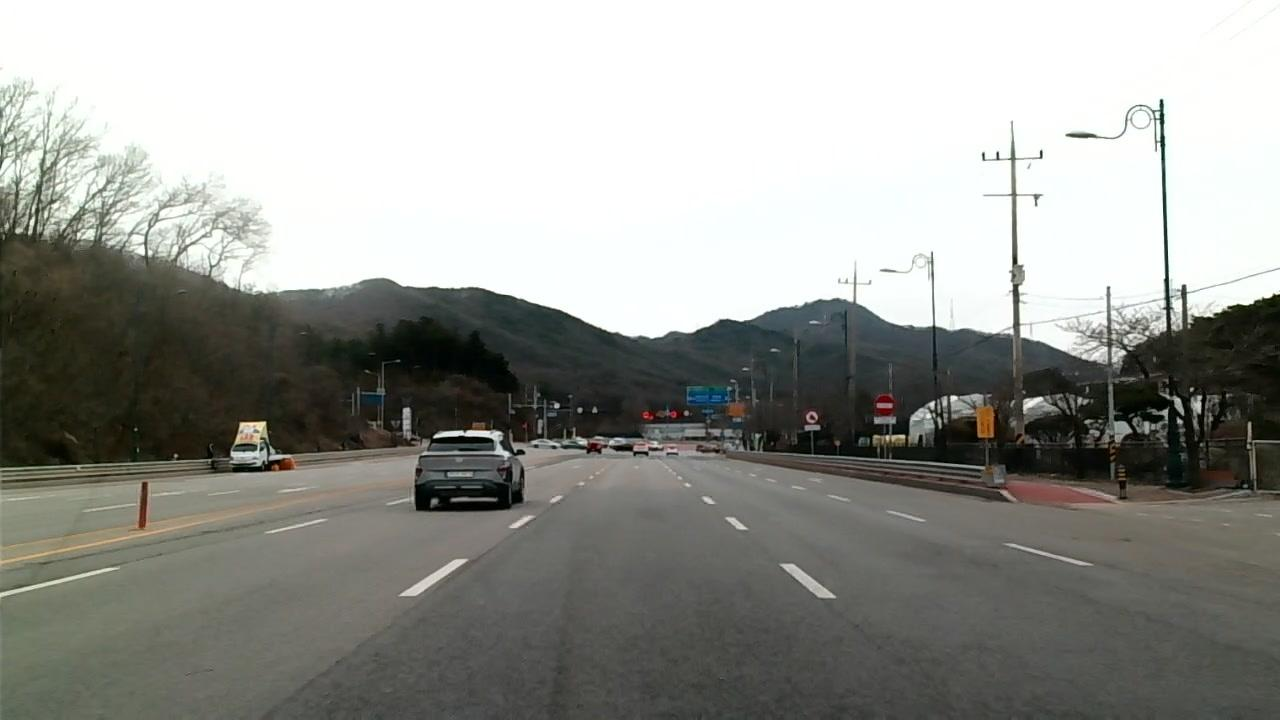vcrack: (255, 606, 410, 718), (1090, 603, 1231, 648), (3, 548, 135, 596), (142, 513, 280, 556)
